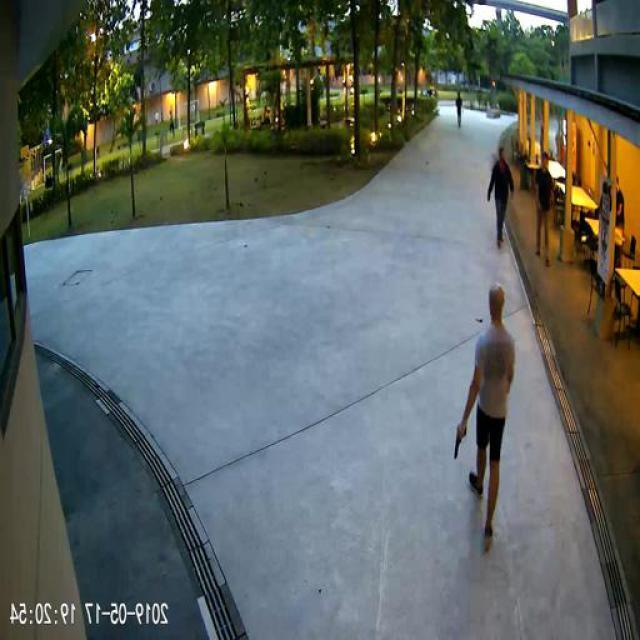Gun: (455, 422, 469, 458)
